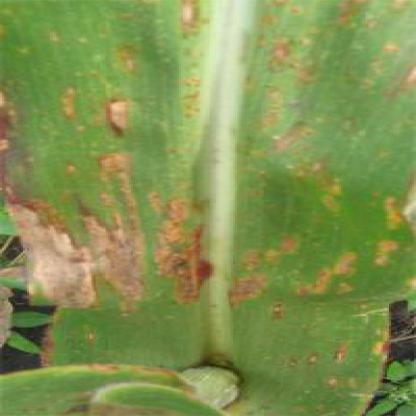Corn leaf blight: (10, 1, 391, 375)
